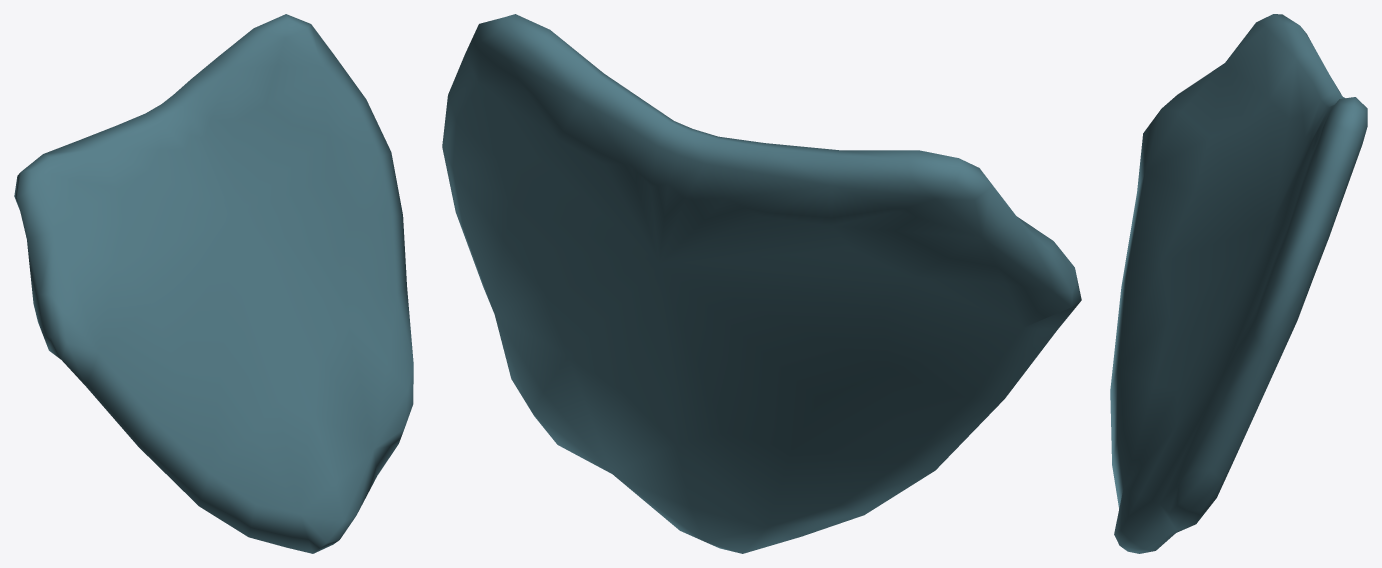
Rendered from Extensor_digitorum&Extensor_indicis-proximal_phalanx.l_Generate.glb.
The picture shows the model from 3 angles, left to right: view 1: azimuth 30°, elevation 25°; view 2: azimuth 150°, elevation 25°; view 3: azimuth 270°, elevation 25°; orthographic projection. The views are drawn at different scales.
Parts seen in each view (by area): view 1: Extensor_digitorum&Extensor_indicis-proximal_phalanx.l_Gener; view 2: Extensor_digitorum&Extensor_indicis-proximal_phalanx.l_Gener; view 3: Extensor_digitorum&Extensor_indicis-proximal_phalanx.l_Gener.
Part boxes in pixels (x1,y1,x2,y2): Extensor_digitorum&Extensor_indicis-proximal_phalanx.l_Gener: (14, 14, 413, 553); Extensor_digitorum&Extensor_indicis-proximal_phalanx.l_Gener: (442, 14, 1081, 553); Extensor_digitorum&Extensor_indicis-proximal_phalanx.l_Gener: (1110, 14, 1367, 553).
Bounding box in the file's own units: 0.00549 × 0.00577 × 0.00281.
